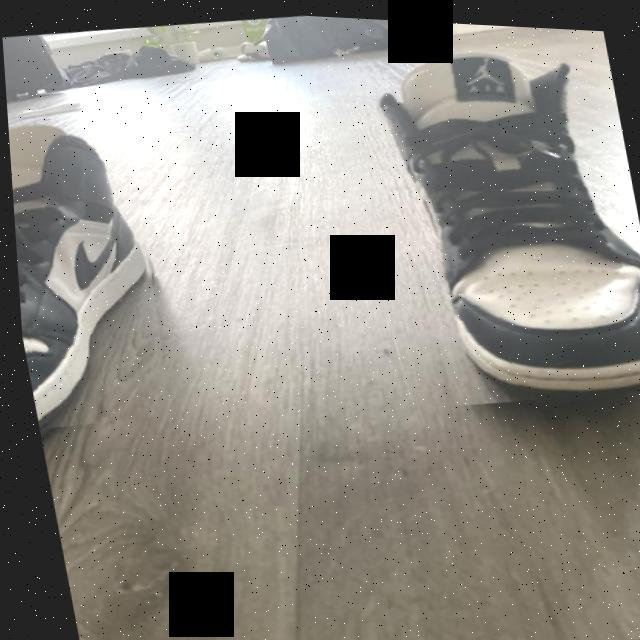shoe: (362, 25, 640, 412), (6, 109, 180, 434)
